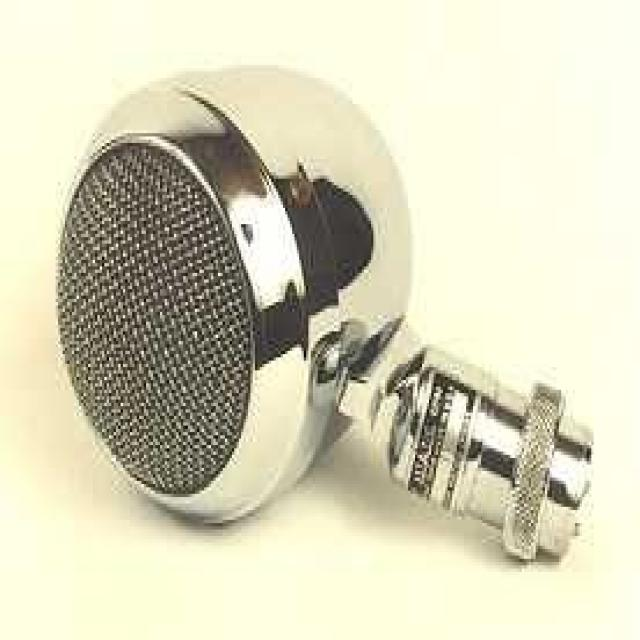microphone: (58, 62, 589, 567)
